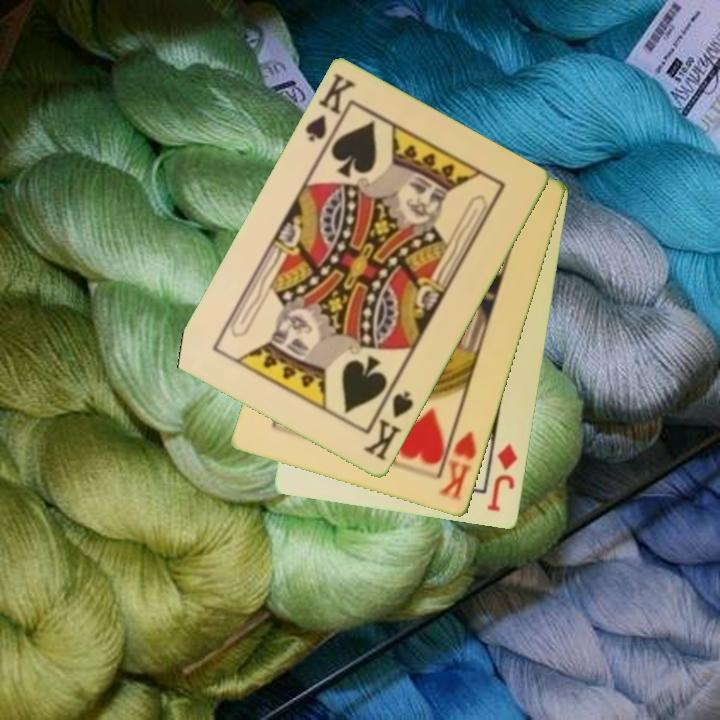Jd: (483, 441, 521, 515)
Kh: (435, 419, 480, 504)
Ks: (301, 70, 359, 154), (360, 382, 417, 464)
